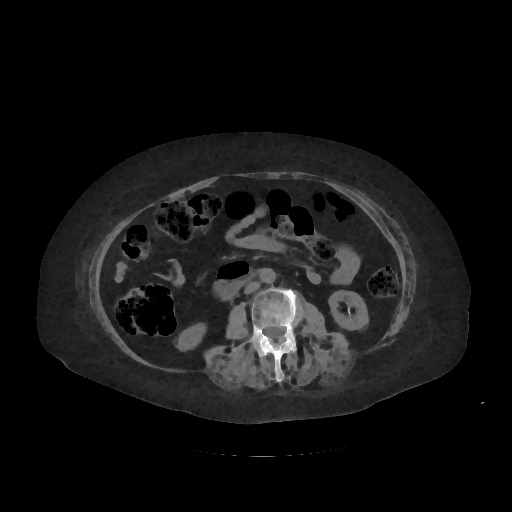Lesion: (343, 303, 354, 318)
